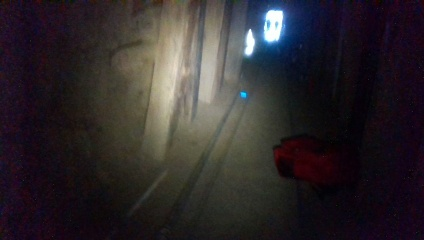backpack: (269, 130, 350, 186)
manikin: (243, 20, 258, 63)
